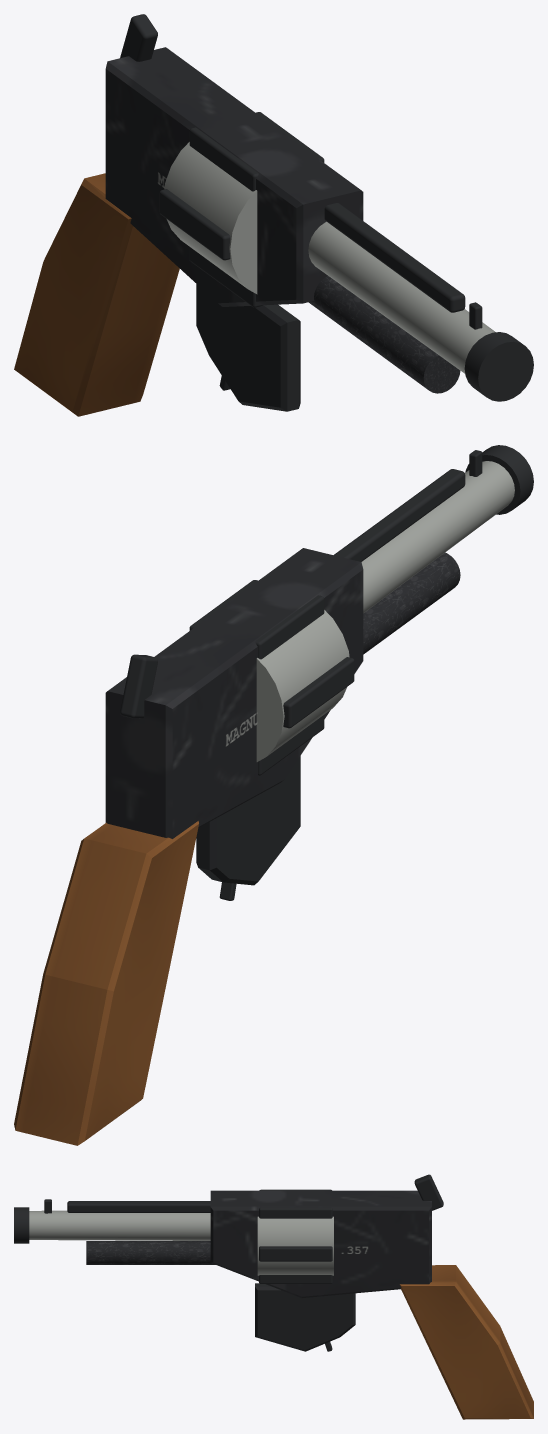
File: 07-revolver-magnum.glb
The picture shows the model from 3 angles, top to bottom: view 1: azimuth 30°, elevation 25°; view 2: azimuth 150°, elevation 25°; view 3: azimuth 270°, elevation 25°; orthographic projection. The views are drawn at different scales.
Size of the model in its own units: 0.068 by 0.2043 by 0.4096.
Materials: 6 (3 with a texture image).
